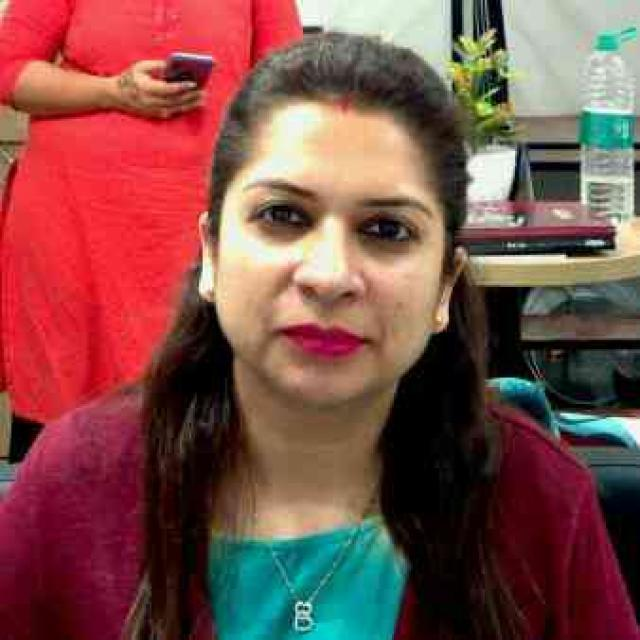puffy_eyes: (357, 230, 417, 262), (251, 216, 310, 244)
